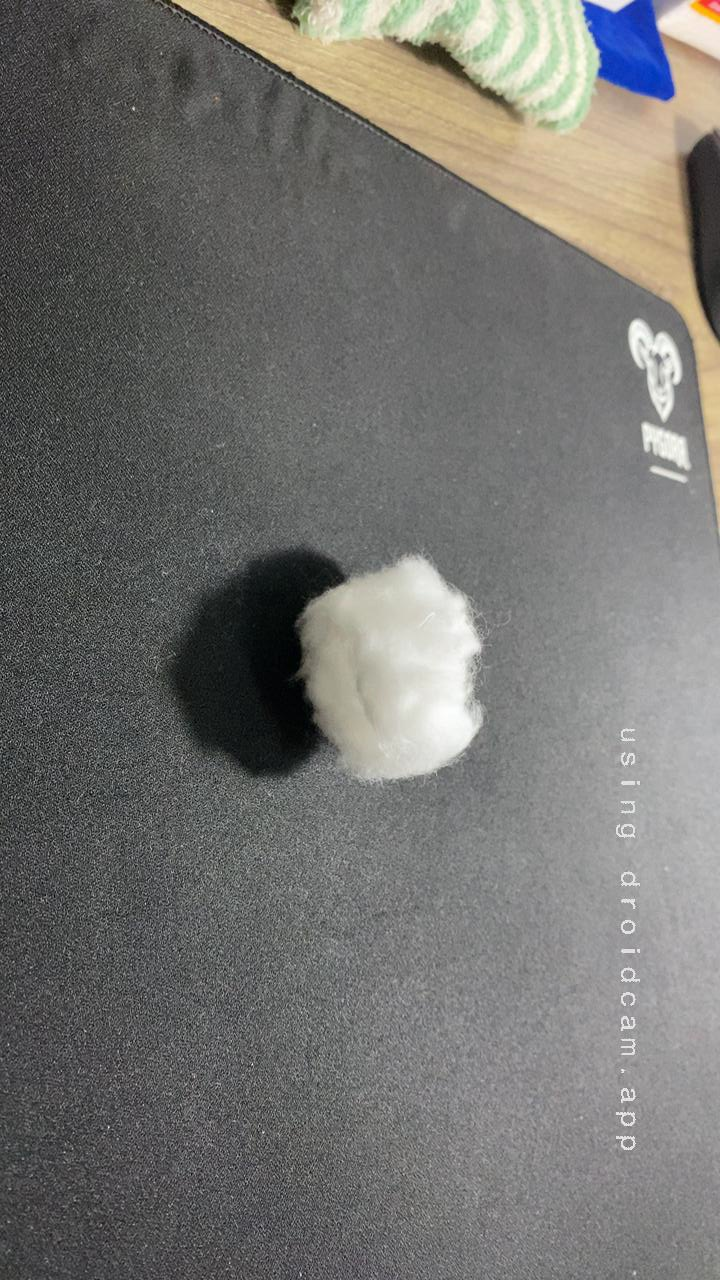cotton: (266, 527, 516, 802)
